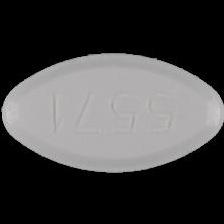50268-775: (0, 0, 224, 224)
